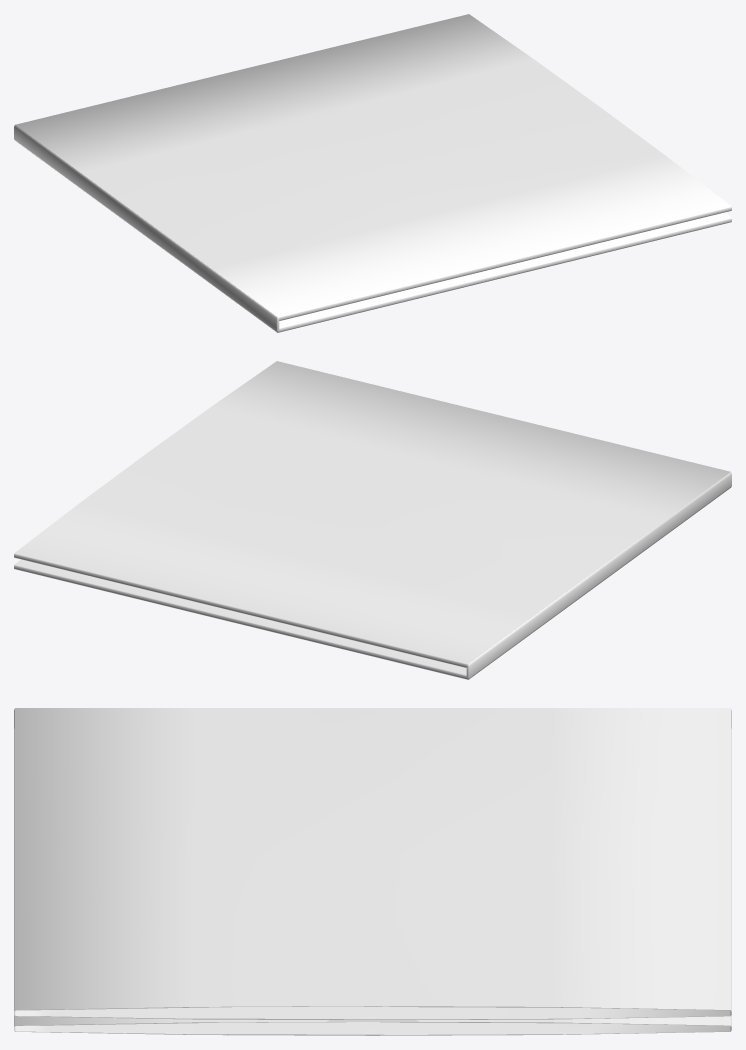
File: sleeve_7_gatefold_AxisNoMove.dae
The picture shows the model from 3 angles, top to bottom: view 1: azimuth 30°, elevation 25°; view 2: azimuth 150°, elevation 25°; view 3: azimuth 270°, elevation 25°; orthographic projection. The views are drawn at different scales.
Visible parts, largest first — view 1: Front, Back, Spine; view 2: Front, Back, Spine; view 3: Front, Back.
Boxes of the visible parts, <box> form: Front: <box>15,14,731,320</box>; Back: <box>278,212,731,332</box>; Spine: <box>14,125,279,332</box>; Front: <box>14,361,730,667</box>; Back: <box>14,559,467,679</box>; Spine: <box>466,472,731,679</box>; Front: <box>14,708,731,1020</box>; Back: <box>14,1015,731,1035</box>.
Bounding box in the file's own units: 17.97 × 0.9986 × 18.02.
3 materials, 3 textured.
